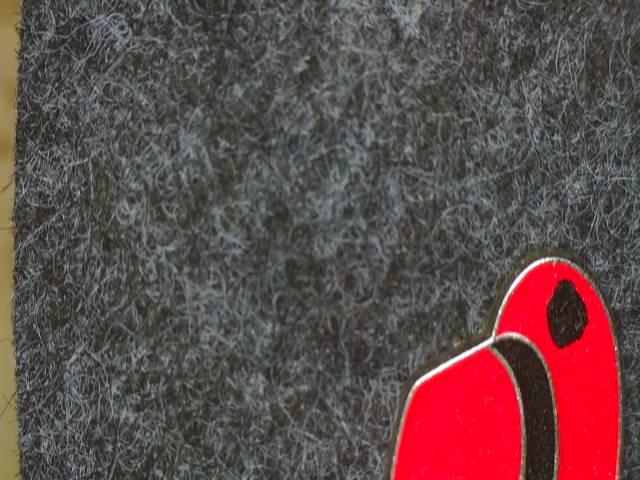Red-Hat: (352, 228, 640, 480)
Scratch: (523, 264, 606, 363)
